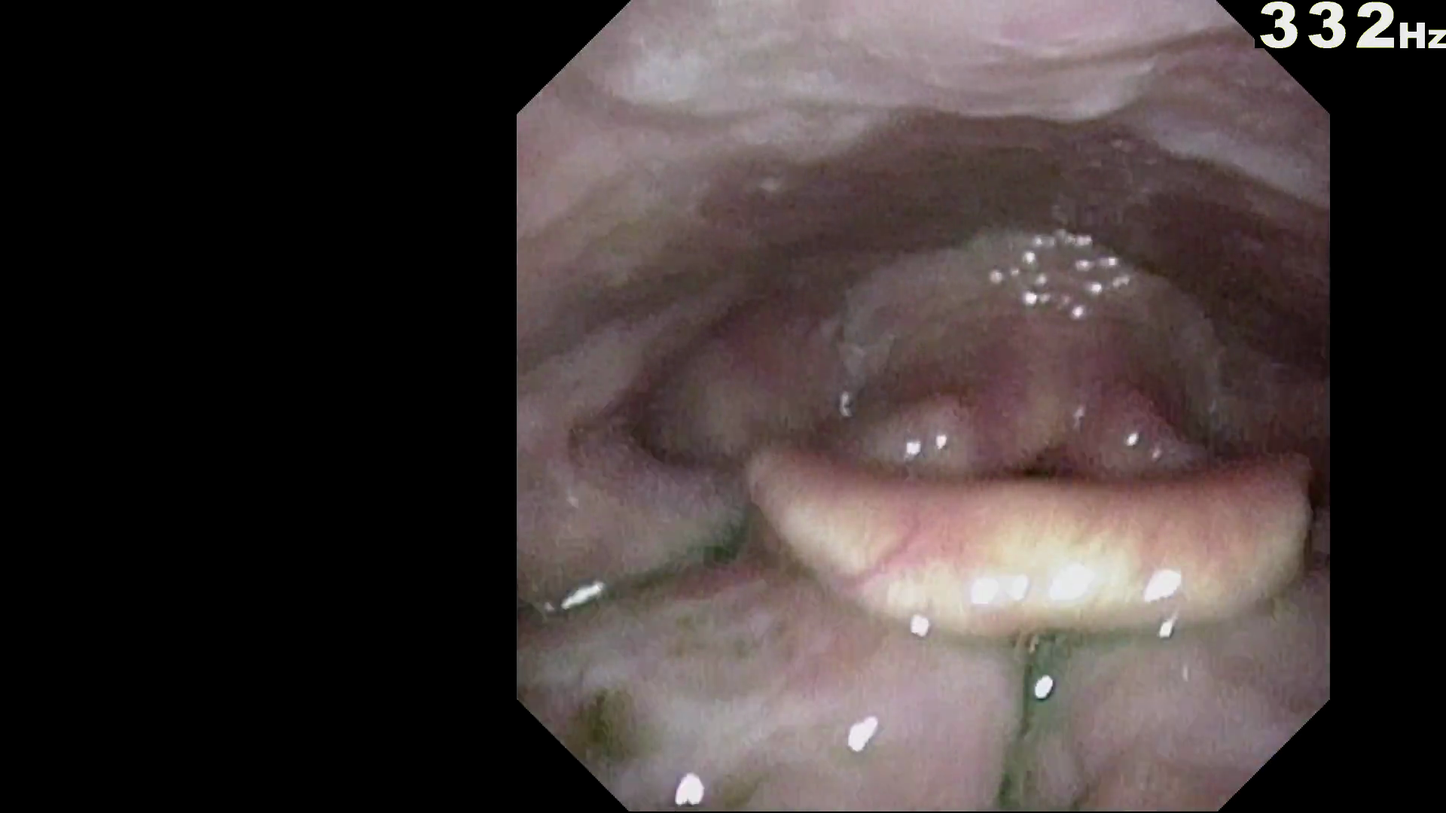epiglottis: (700, 453, 1318, 640)
